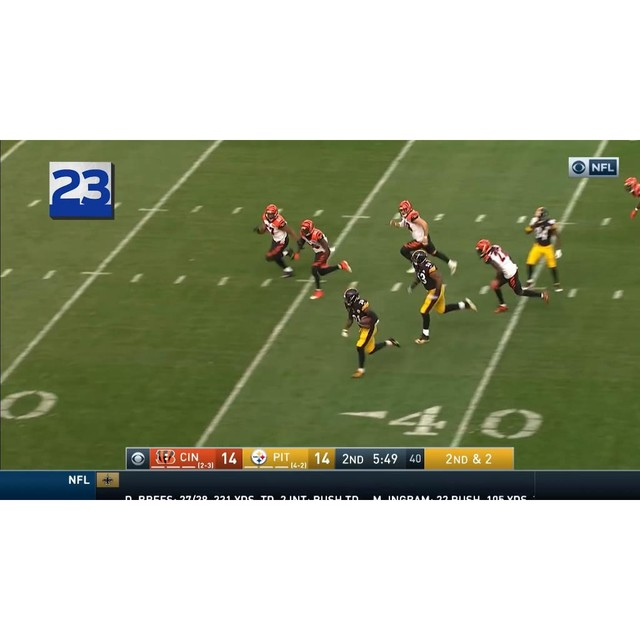american-football-player: (407, 249, 477, 343), (340, 288, 402, 377), (475, 239, 548, 314), (390, 199, 458, 277), (297, 218, 353, 297), (522, 206, 565, 290), (252, 204, 299, 278)
